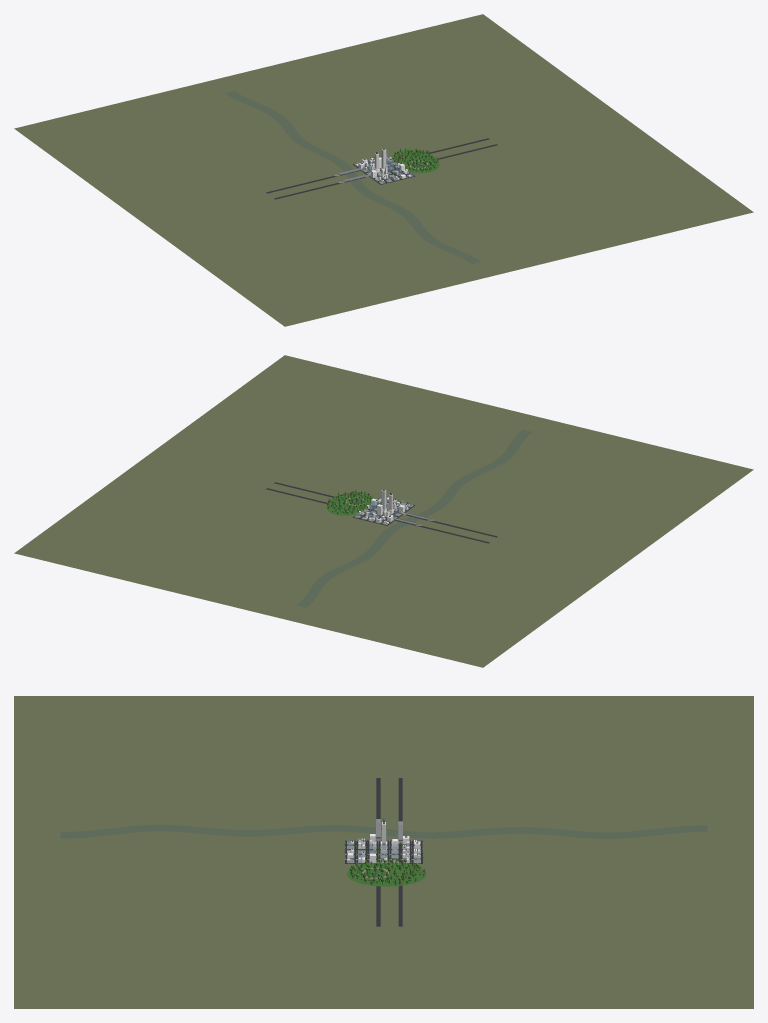
The model's file is city_day.glb.
The picture shows the model from 3 angles, top to bottom: view 1: azimuth 30°, elevation 25°; view 2: azimuth 150°, elevation 25°; view 3: azimuth 270°, elevation 25°; orthographic projection. The views are drawn at different scales.
Visible parts, largest first — view 1: ground, river, park_lawn; view 2: ground, river, park_lawn; view 3: ground, river, park_lawn, downtown_asphalt.
Part boxes in pixels (x1,y1,x2,y2): ground: (14, 14, 753, 326); river: (226, 91, 480, 263); park_lawn: (392, 150, 439, 173); ground: (14, 355, 753, 667); river: (297, 430, 531, 607); park_lawn: (326, 492, 372, 515); ground: (14, 696, 753, 1008); river: (60, 825, 707, 838); park_lawn: (347, 861, 426, 886); downtown_asphalt: (345, 840, 422, 863).
Bounding box in the file's own units: 1600 × 83.89 × 1600.
